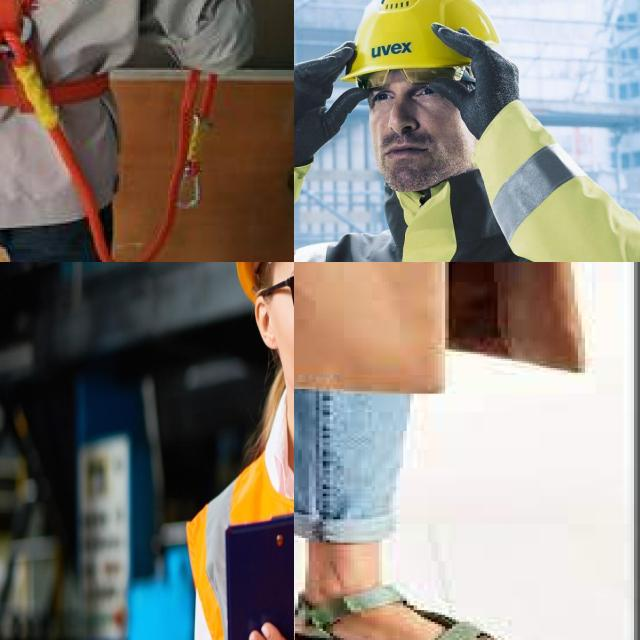Harness: (0, 0, 131, 262)
face_nomask: (354, 76, 462, 199), (255, 262, 294, 399)
hand_glove: (414, 29, 548, 115), (294, 36, 363, 158)
head_helmet: (341, 0, 504, 79)
person: (294, 37, 640, 262), (147, 262, 294, 640)
vest: (217, 416, 294, 640)
